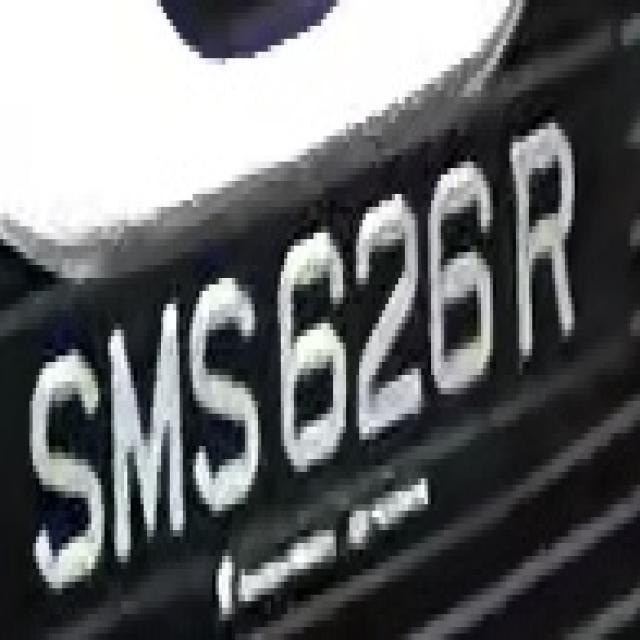2: (346, 175, 421, 459)
6: (268, 213, 359, 485), (418, 149, 503, 407)
M: (105, 291, 186, 569)
R: (503, 110, 588, 362)
S: (180, 246, 264, 517), (26, 323, 101, 608)
